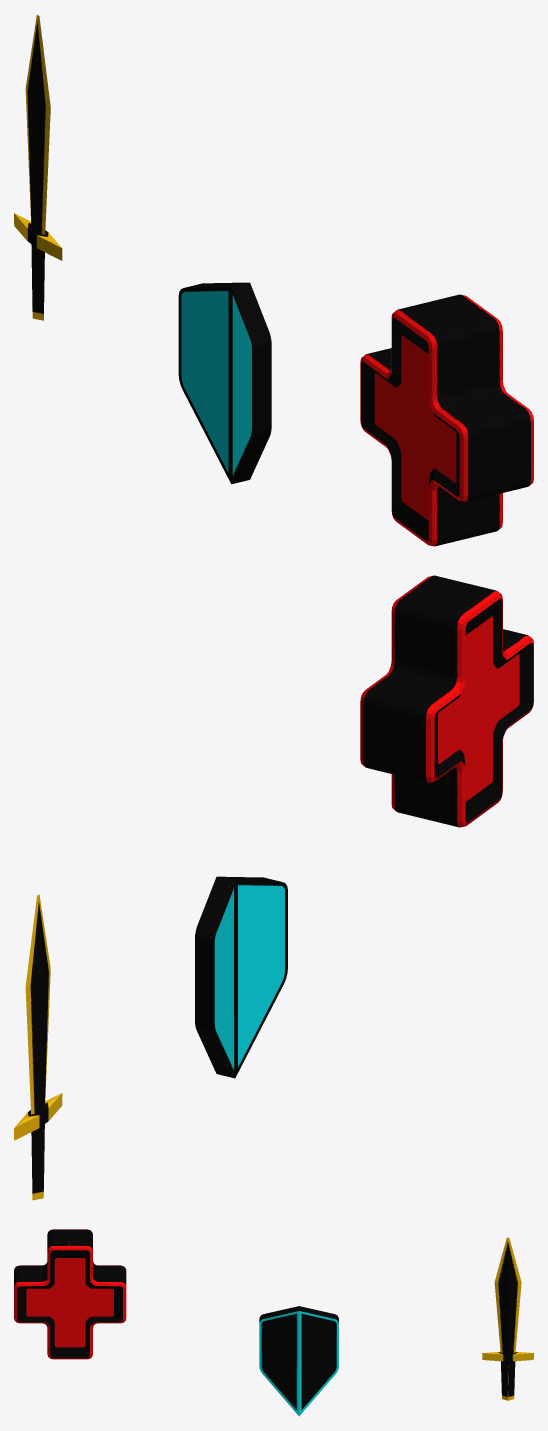
Rendered from Pickups.fbx.
The picture shows the model from 3 angles, top to bottom: view 1: azimuth 30°, elevation 25°; view 2: azimuth 150°, elevation 25°; view 3: azimuth 270°, elevation 25°; orthographic projection. The views are drawn at different scales.
Parts seen in each view (by area): view 1: Cube, Cube.002, Cube.001; view 2: Cube, Cube.002, Cube.001; view 3: Cube, Cube.002, Cube.001.
Part boxes in pixels (x1,y1,x2,y2): Cube: (360, 294, 533, 546); Cube.002: (178, 282, 271, 484); Cube.001: (14, 14, 62, 320); Cube: (360, 575, 533, 827); Cube.002: (195, 876, 287, 1078); Cube.001: (14, 894, 62, 1200); Cube: (14, 1229, 126, 1359); Cube.002: (259, 1306, 338, 1416); Cube.001: (482, 1237, 533, 1400).
Bounding box in the file's own units: 114 × 484 × 1307.
Materials: 3 (3 with a texture image).
